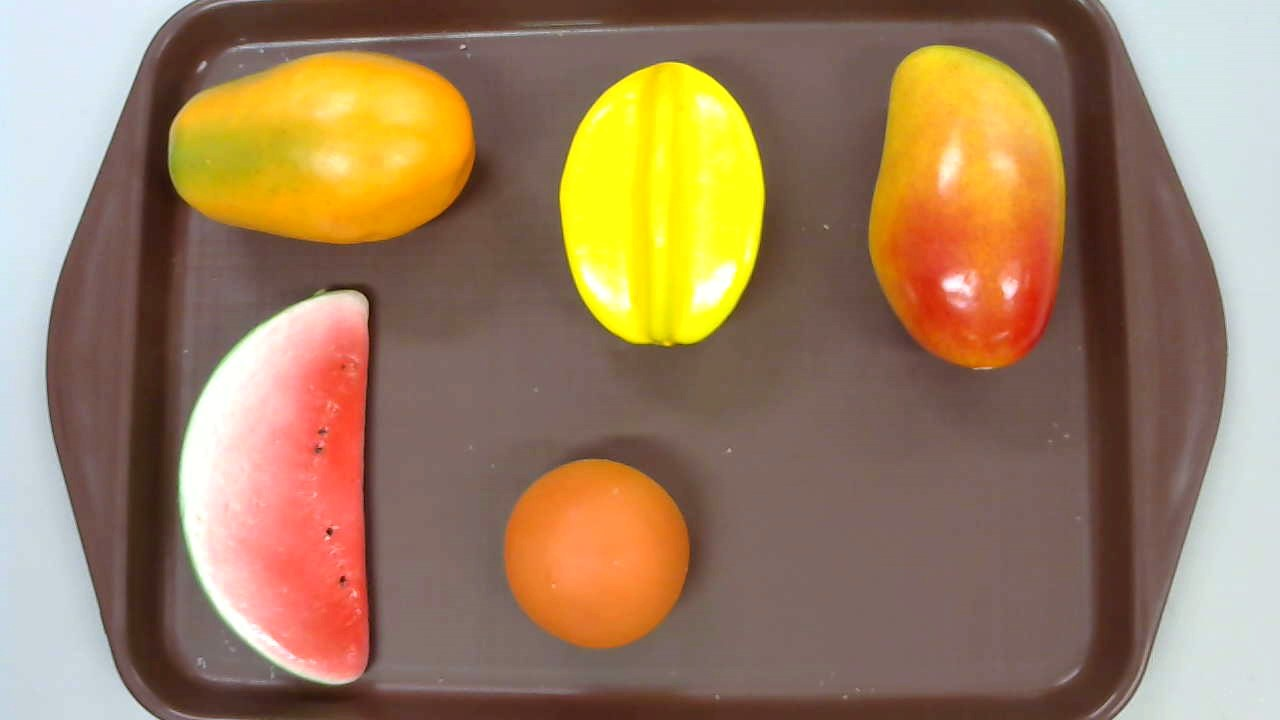bun: (503, 459, 690, 649)
papya: (168, 51, 475, 245)
red mango: (867, 45, 1066, 368)
star fruit: (560, 62, 764, 347)
water melon: (175, 289, 370, 685)
